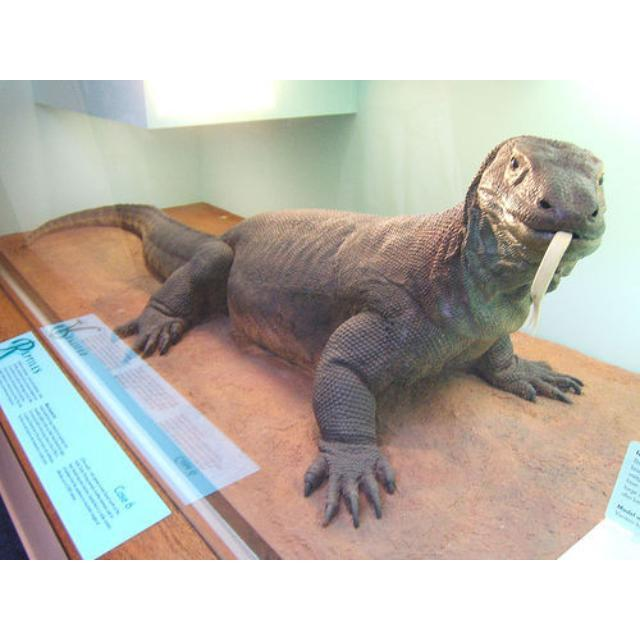KomodoDragon: (14, 133, 606, 529)
